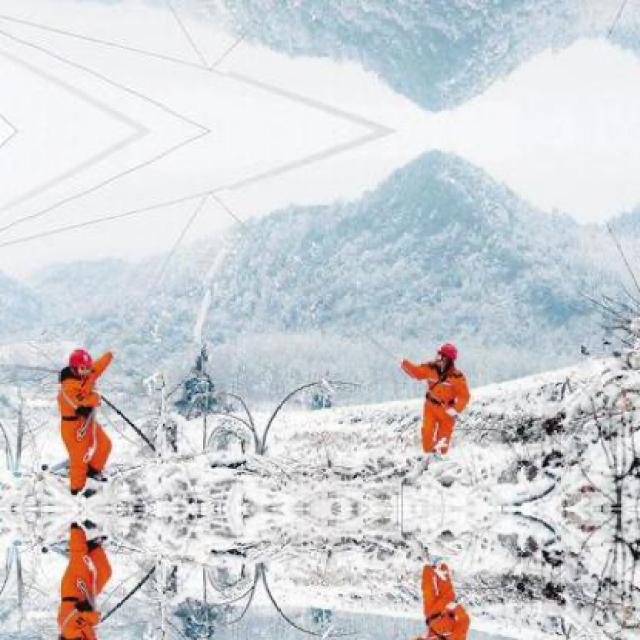2: (52, 350, 130, 494), (405, 338, 480, 464), (52, 524, 131, 638), (403, 554, 480, 638)
helmet: (66, 350, 94, 376), (436, 339, 458, 367)
